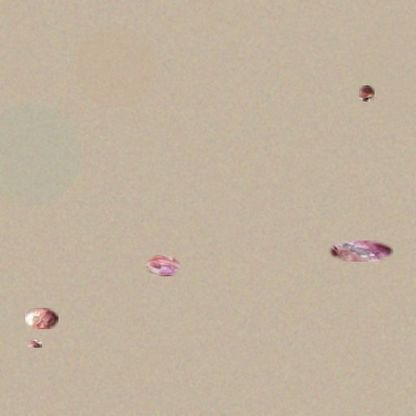damaged: (146, 255, 180, 276)
rotten: (328, 241, 393, 262), (25, 308, 58, 329)
sprouted: (359, 85, 375, 102), (28, 340, 42, 348)
